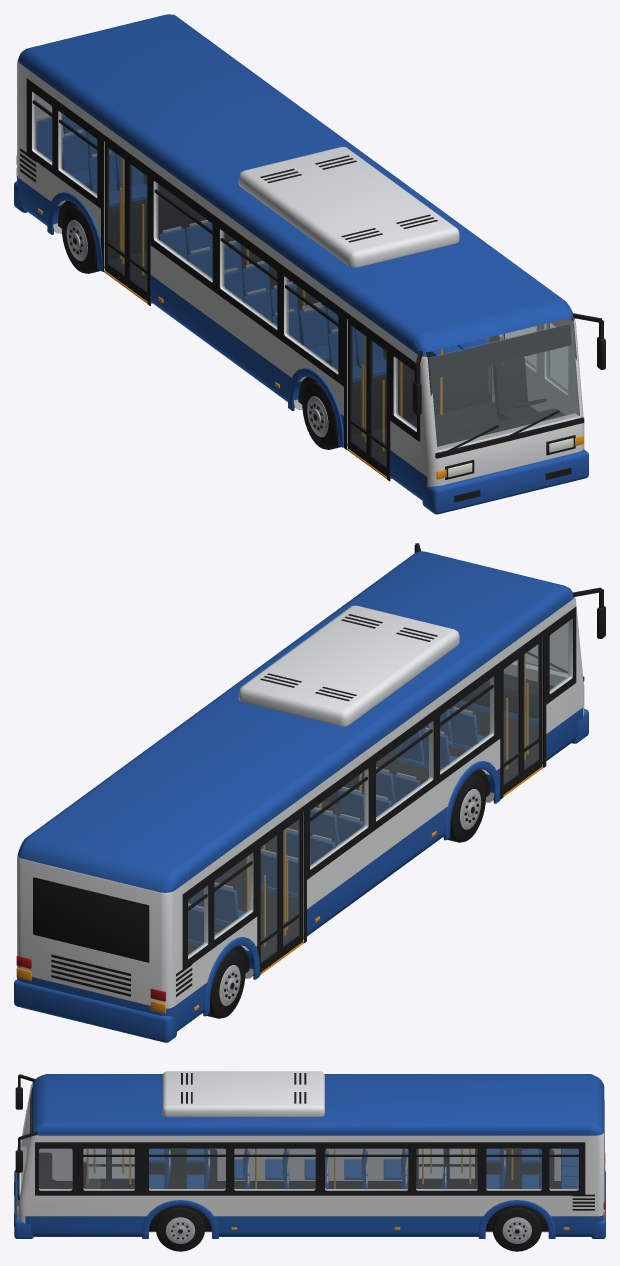
File: CityBus.fbx
The picture shows the model from 3 angles, top to bottom: view 1: azimuth 30°, elevation 25°; view 2: azimuth 150°, elevation 25°; view 3: azimuth 270°, elevation 25°; orthographic projection. The views are drawn at different scales.
Parts seen in each view (by area): view 1: CityBus_Mesh; view 2: CityBus_Mesh; view 3: CityBus_Mesh.
Part boxes in pixels (x1=…): CityBus_Mesh: x1=14, y1=14, x2=605, y2=514; CityBus_Mesh: x1=14, y1=543, x2=605, y2=1042; CityBus_Mesh: x1=14, y1=1071, x2=605, y2=1251.
Bounding box in the file's own units: 3.11 × 3.1 × 12.01.
